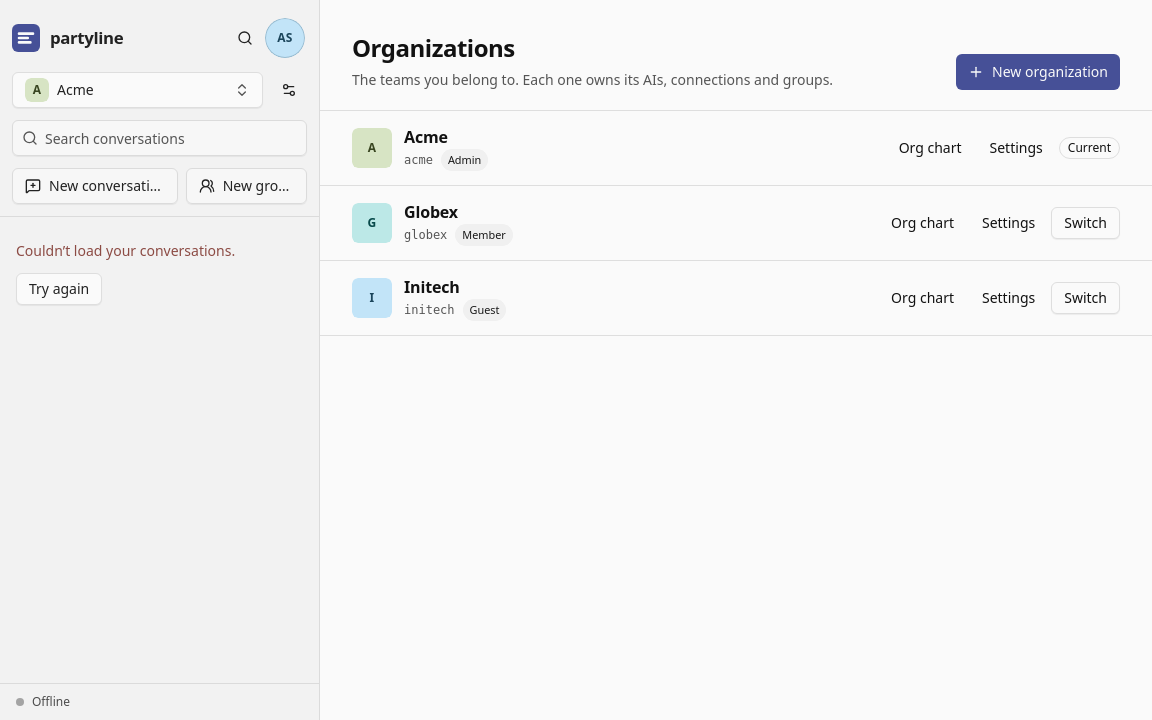
Test case: my organizations (ORG-01, OMEM-03) › marks the current organization and switches to another one on request
Expected: the text "Current" is shown, 1059,137 -> 1120,159
Click the button with aria-label "Switch to Globex" at (1086, 223), box 1051,207 -> 1120,239
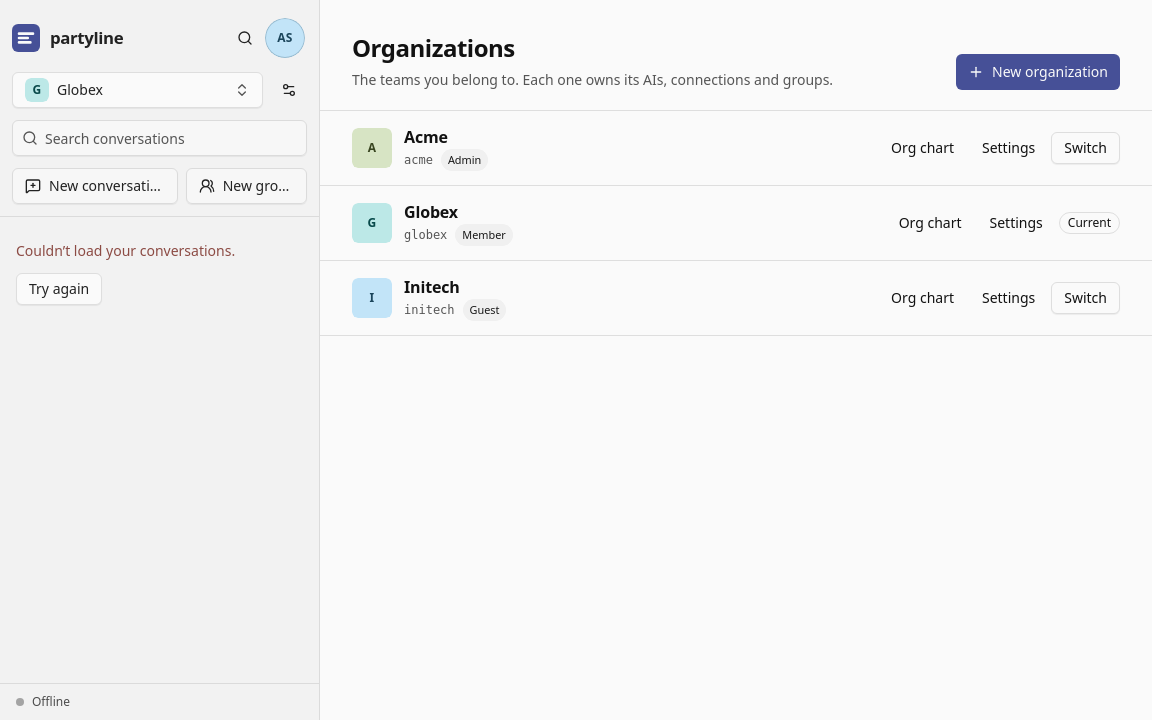
Expected: the text "Current" is shown, 1059,212 -> 1120,234
Result: the button with aria-label "Switch to Acme" is shown at 1051,132 -> 1120,164
